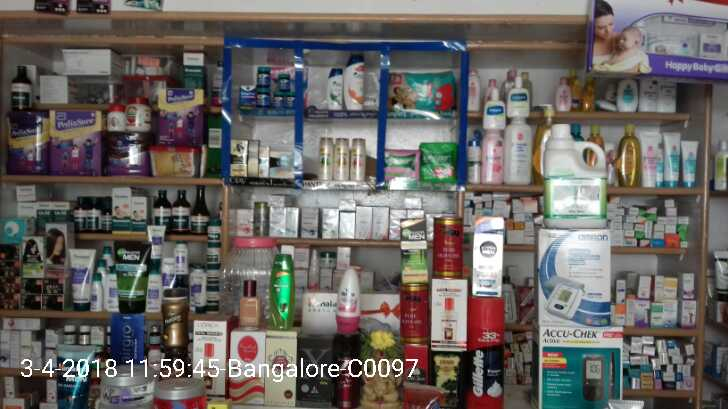vicks: (239, 64, 296, 112)
